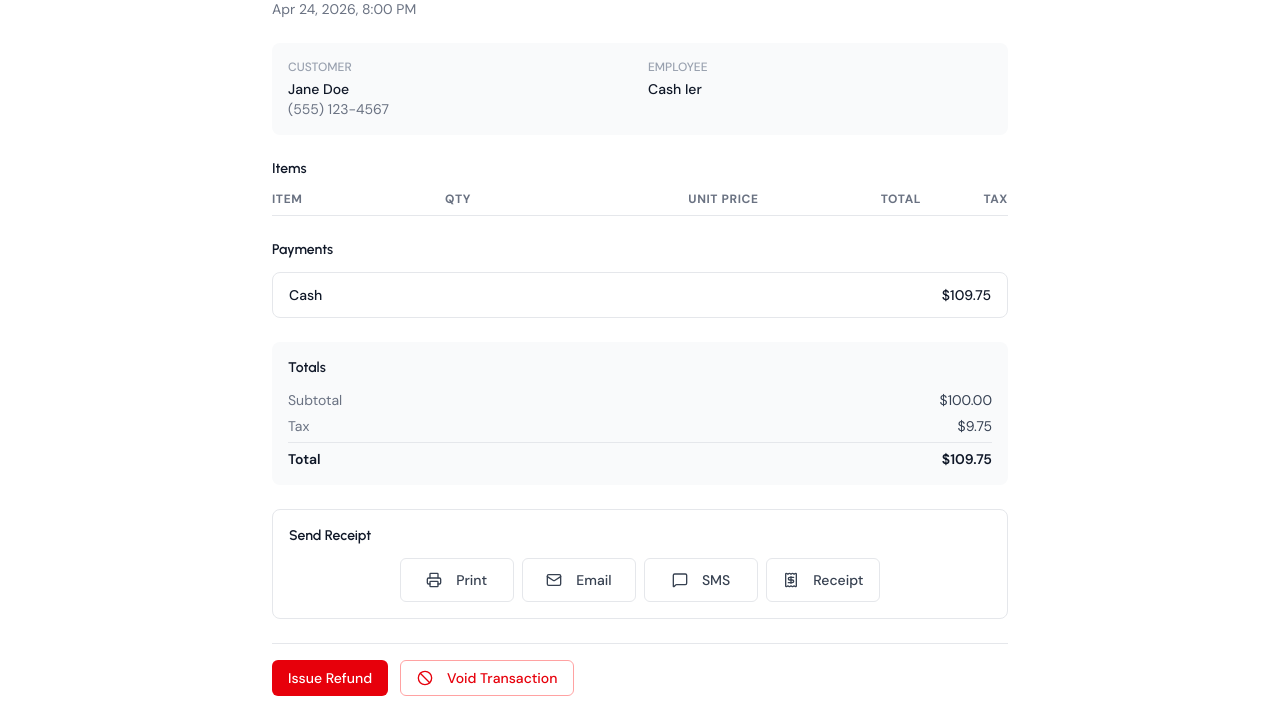
Test: TransactionDetail — void confirmation dialog language › shows non-cascade language when no linked job exists
This screenshot has width=1280, height=720.
(page scrolled)
Click the button "Void Transaction".
click(487, 678)  # box [400, 660, 574, 696]
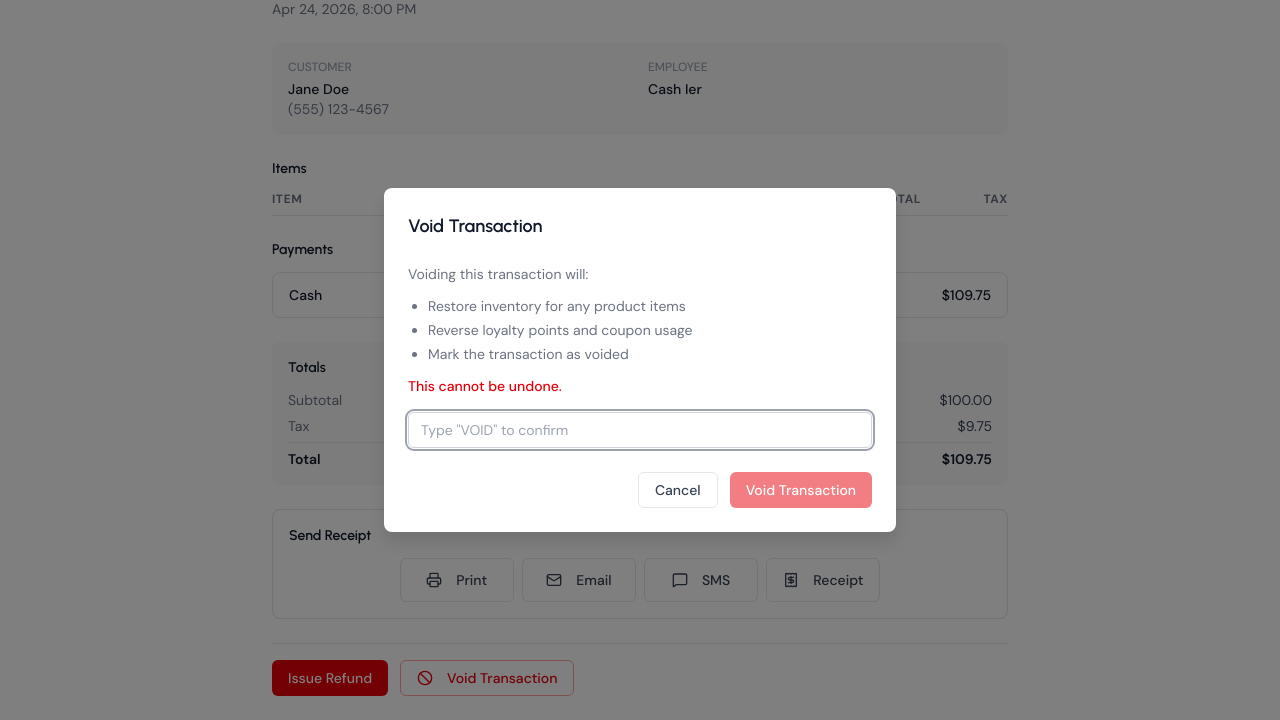
Expected: the list item "Restore inventory for any product items" is shown, [428, 297, 686, 315]
Expected: the list item "Reverse loyalty points and coupon usage" is shown, [428, 321, 692, 339]
Expected: the field with placeholder "Type \"VOID\" to confirm" is shown, [408, 412, 872, 448]
